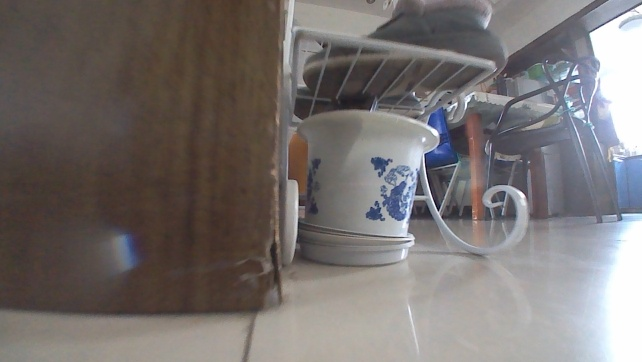dining_table: (421, 50, 627, 225)
